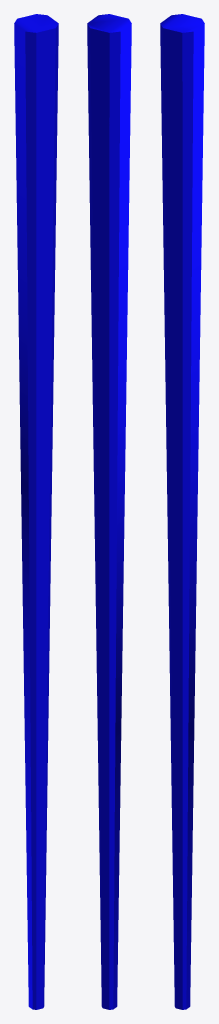
The model's file is SM_chopstickblue.FBX.
The picture shows the model from 3 angles, left to right: view 1: azimuth 30°, elevation 25°; view 2: azimuth 150°, elevation 25°; view 3: azimuth 330°, elevation 25°; orthographic projection.
Visible parts, largest first — view 1: chopstick01; view 2: chopstick01; view 3: chopstick01.
Boxes of the visible parts, x1=… form: chopstick01: x1=14, y1=14, x2=58, y2=1009; chopstick01: x1=87, y1=14, x2=131, y2=1009; chopstick01: x1=160, y1=14, x2=204, y2=1009.
Size of the model in its own units: 2.94 by 82.36 by 2.94.
